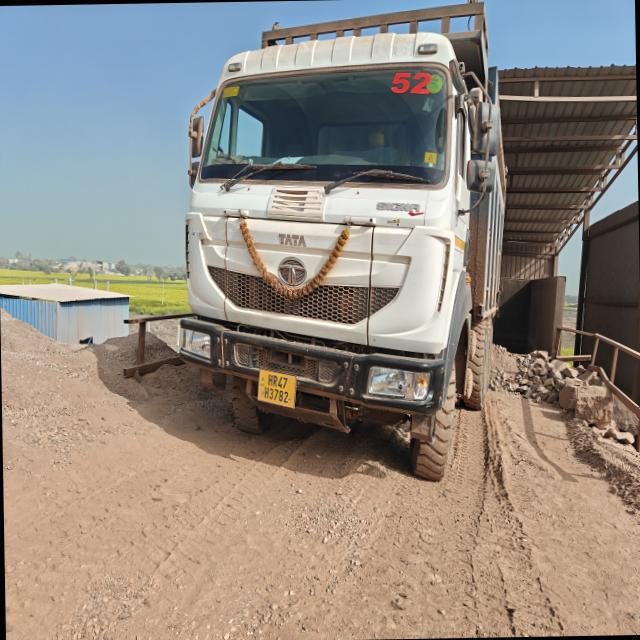license_plate: (259, 369, 296, 408)
